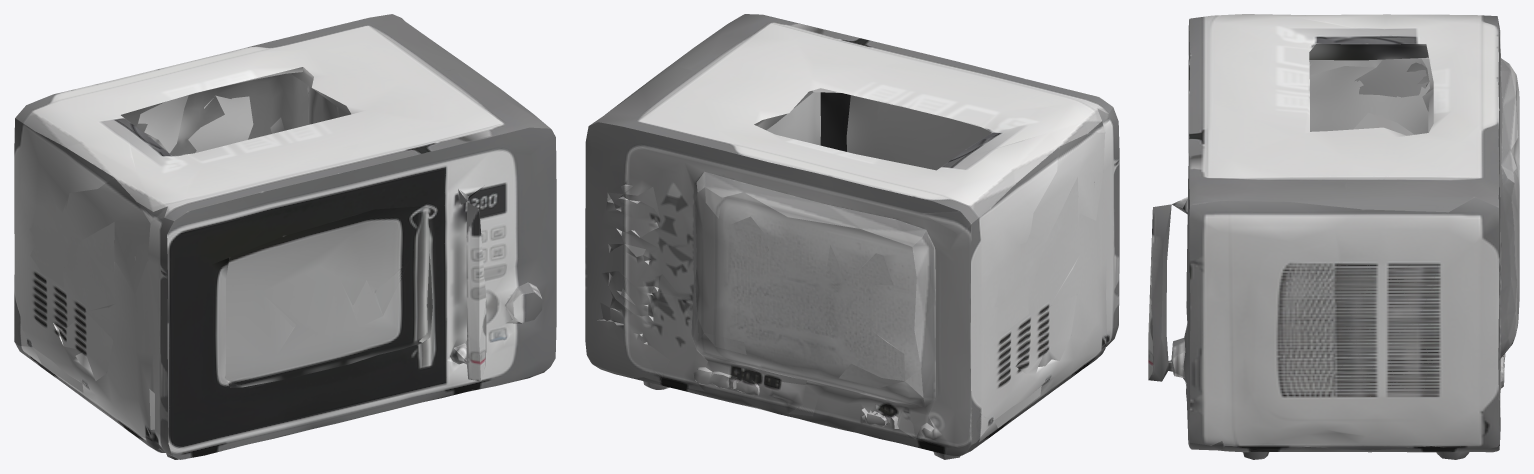
The model's file is mundane_microwave.glb.
3 views of the same model, side by side, from view 1: azimuth 30°, elevation 25°; view 2: azimuth 150°, elevation 25°; view 3: azimuth 270°, elevation 25° (orthographic). The views are drawn at different scales.
Parts seen in each view (by area): view 1: geometry_0; view 2: geometry_0; view 3: geometry_0.
Boxes of the visible parts, left/top/right/bottom form: geometry_0: left=14, top=14, right=556, bottom=459; geometry_0: left=585, top=14, right=1119, bottom=459; geometry_0: left=1148, top=14, right=1519, bottom=459.
Size of the model in its own units: 0.426 by 0.2822 by 0.3379.
Materials: 1 (1 with a texture image).
